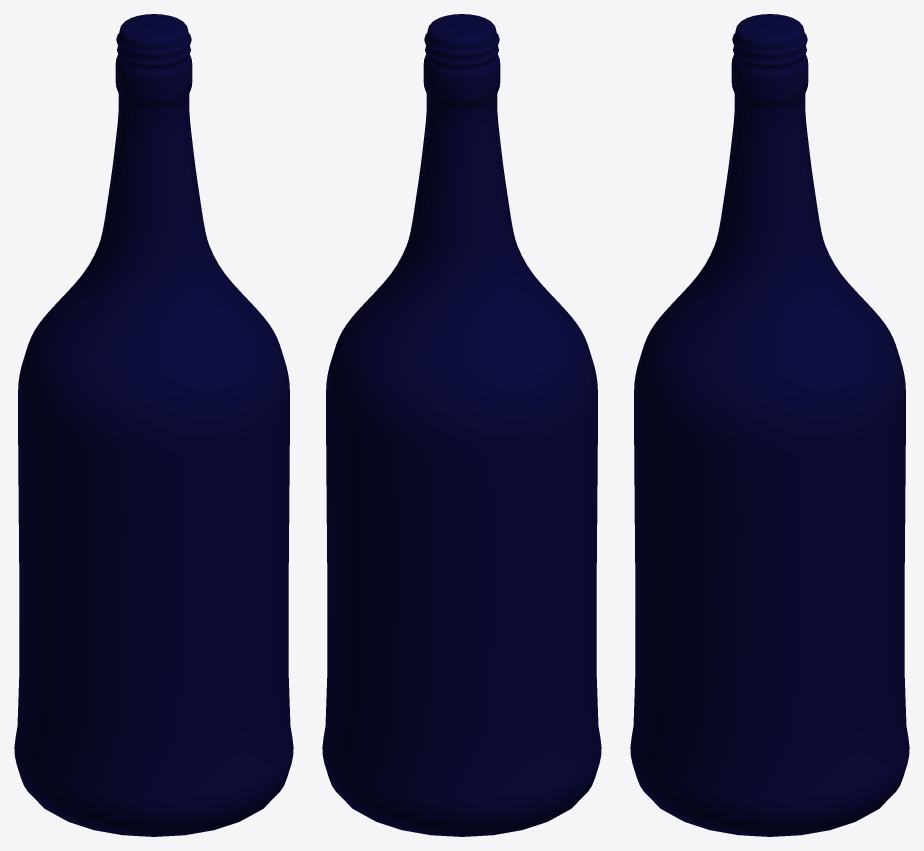
The model's file is GAME-WINE-BOTTLE.fbx.
3 renders of one model, left to right at view 1: azimuth 30°, elevation 25°; view 2: azimuth 150°, elevation 25°; view 3: azimuth 270°, elevation 25°, orthographic.
Parts seen in each view (by area): view 1: Cube; view 2: Cube; view 3: Cube.
Part boxes in pixels (x1,y1,x2,y2): Cube: (14,14,293,836); Cube: (322,14,601,836); Cube: (630,14,909,836).
Size of the model in its own units: 45.68 by 141 by 45.68.
